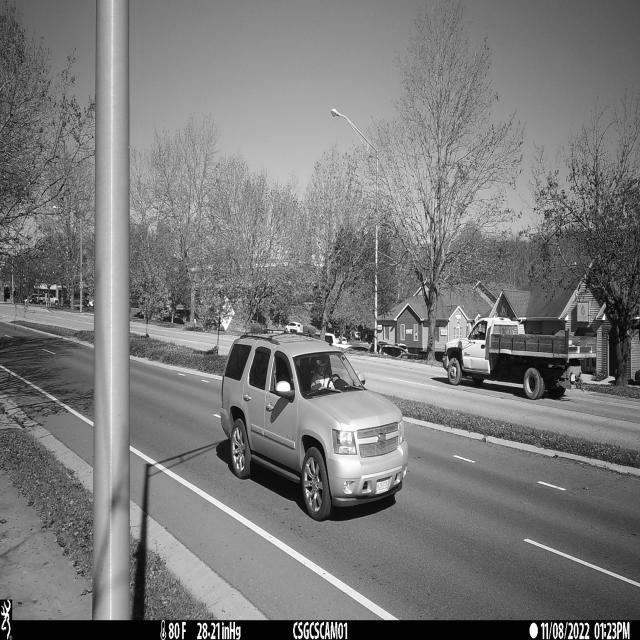Pickup- Utility: (443, 318, 595, 400)
SUV: (217, 333, 408, 522)
